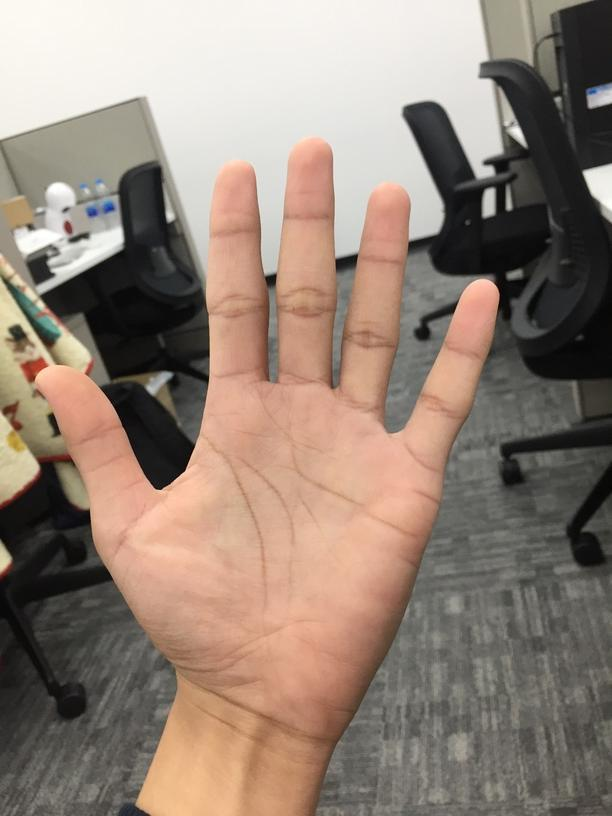hand: (34, 134, 501, 748)
